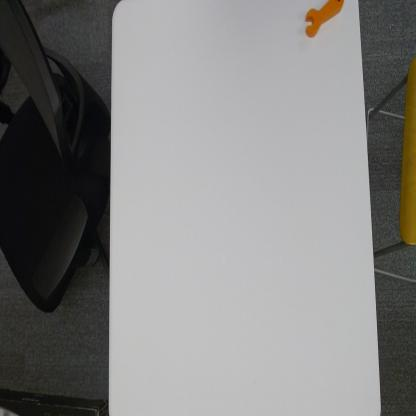Screwdriver: (302, 0, 345, 41)
